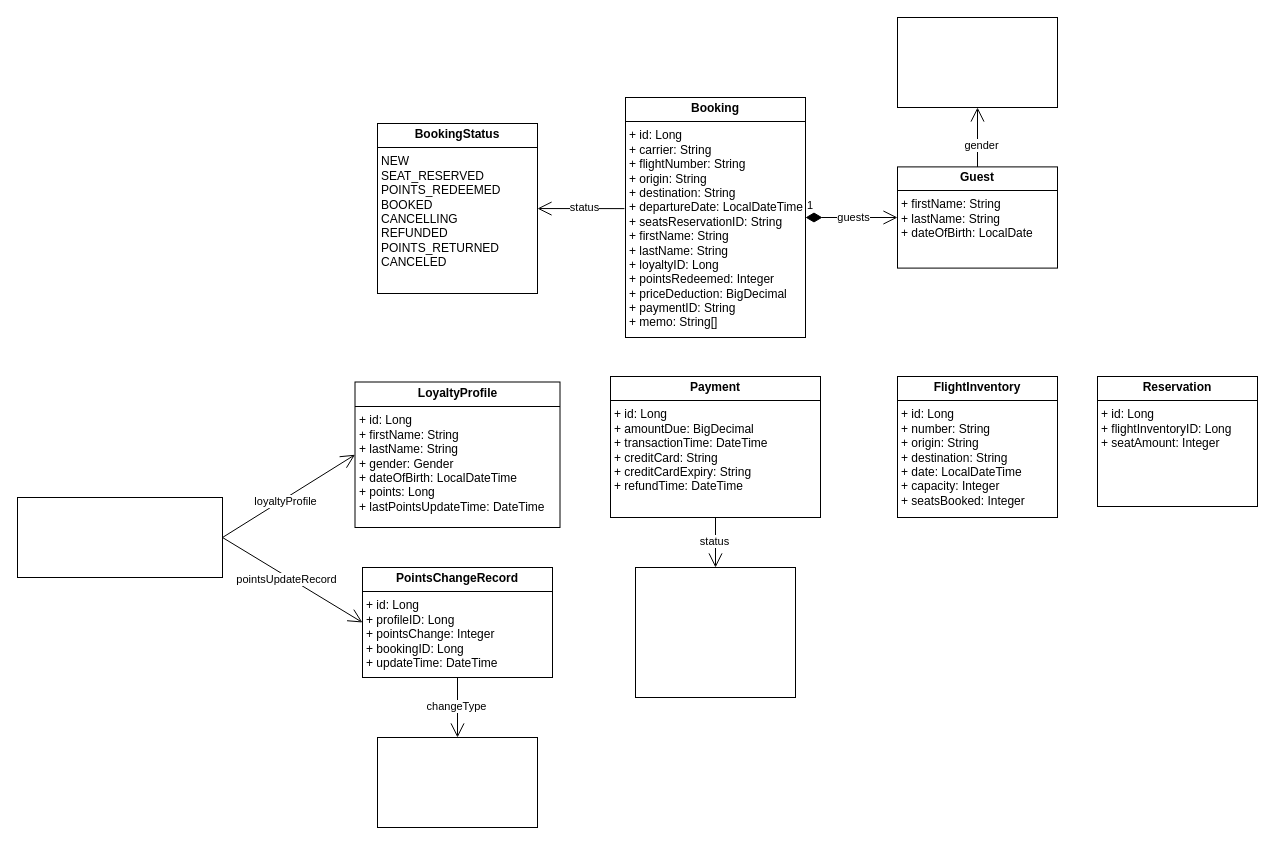
The diagram is 1275 pixels wide and 845 high, and some of its shapes have lost their labels. The centre of each missing label's shape, as x and y in pixels:
"Gender MALE FEMALE" goes at point (977, 62).
"PaymentStatus PAID REFUNDED" goes at point (715, 632).
"PointsUpdateResponse" goes at point (119, 537).
"PointsUpdateType EARNING REDEMPTION RETURN" goes at point (457, 782).
